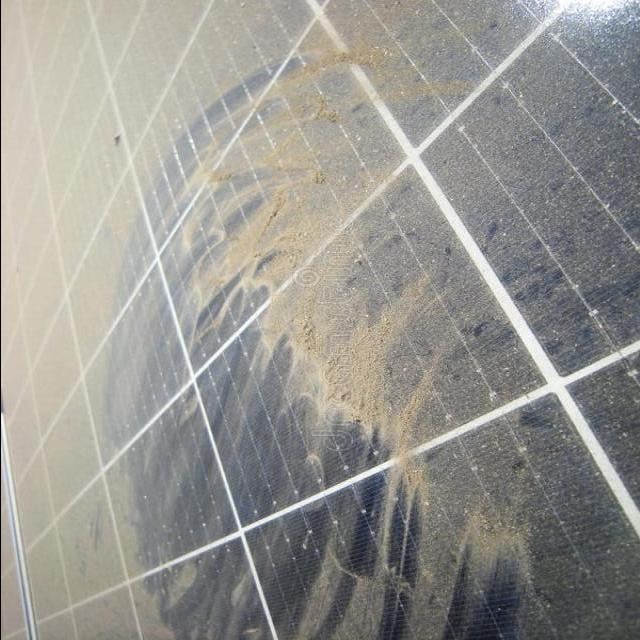soiled: (33, 2, 636, 630)
